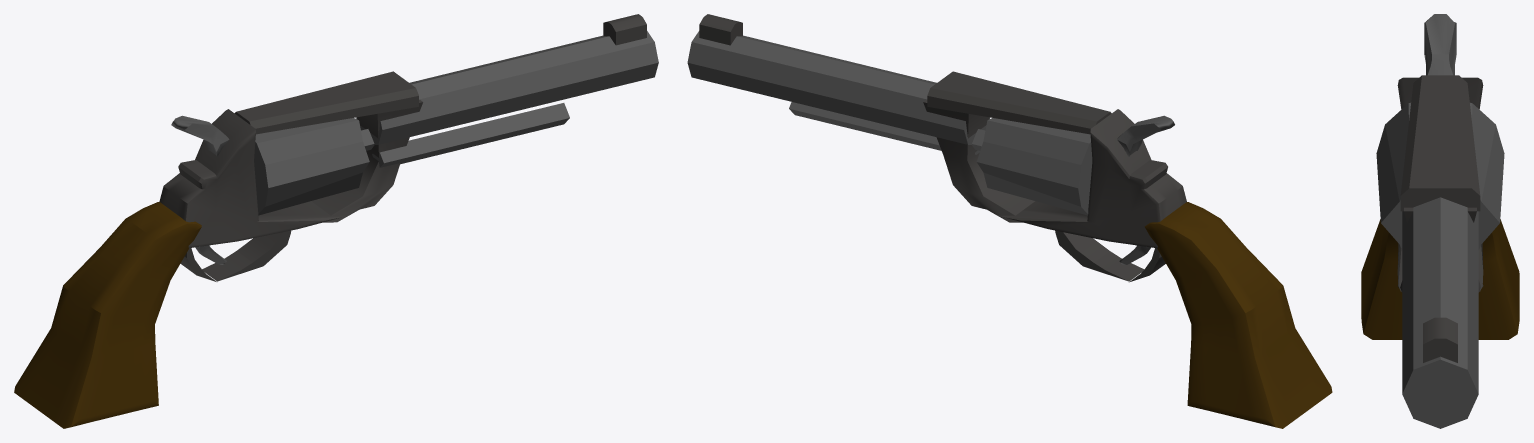
The model's file is gunslamb.fbx.
3 renders of one model, left to right at view 1: azimuth 30°, elevation 25°; view 2: azimuth 150°, elevation 25°; view 3: azimuth 270°, elevation 25°, orthographic. The views are drawn at different scales.
Parts seen in each view (by area): view 1: manche, pCylinder2, pCube2, pCylinder1, pCube6, pCube8, pCube5, pCube4, pCube10, pCube9; view 2: manche, pCylinder2, pCube2, pCylinder1, pCube6, pCube5, pCube8, pCube4, pCube10, pCube9; view 3: pCylinder2, pCube6, manche, pCylinder1, pCube10, pCube9, pCube2, pCube5.
Part boxes in pixels (<box>): manche: <box>14,202,201,428</box>; pCylinder2: <box>356,31,658,144</box>; pCube2: <box>159,109,350,247</box>; pCylinder1: <box>254,118,369,215</box>; pCube6: <box>234,71,418,134</box>; pCube8: <box>372,103,569,167</box>; pCube5: <box>311,99,422,222</box>; pCube4: <box>202,230,291,281</box>; pCube10: <box>171,115,229,156</box>; pCube9: <box>603,14,646,45</box>; manche: <box>1144,202,1332,428</box>; pCylinder2: <box>687,31,989,144</box>; pCube2: <box>996,109,1186,248</box>; pCylinder1: <box>976,118,1092,215</box>; pCube6: <box>927,71,1111,134</box>; pCube5: <box>923,99,1034,222</box>; pCube8: <box>789,102,979,154</box>; pCube4: <box>1055,230,1144,281</box>; pCube10: <box>1117,115,1174,156</box>; pCube9: <box>699,14,742,45</box>; pCylinder2: <box>1402,197,1478,428</box>; pCube6: <box>1400,75,1480,211</box>; manche: <box>1361,219,1519,339</box>; pCylinder1: <box>1376,102,1504,249</box>; pCube10: <box>1424,14,1456,75</box>; pCube9: <box>1423,317,1457,362</box>; pCube2: <box>1397,77,1483,291</box>; pCube5: <box>1397,207,1483,292</box>.
Size of the model in its own units: 13.27 by 5.37 by 2.17.
